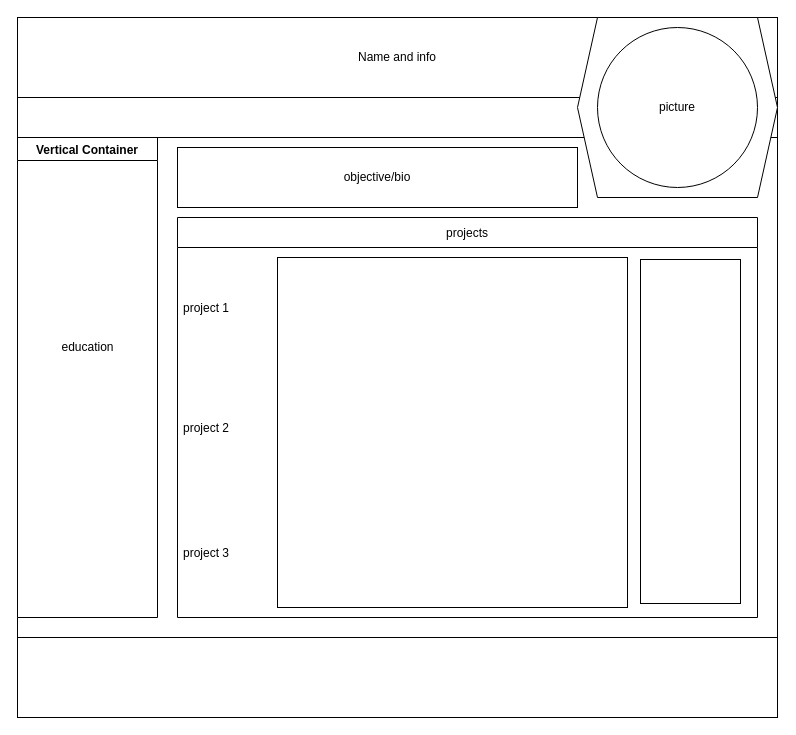
This 796x735 diagram has some shape labels left out. The box of each missing label's shape, as (x1, y1, x2, y2) in pixels:
experience: (276, 256, 628, 608)
navbar: (16, 96, 778, 138)
references with links: (16, 636, 778, 718)
